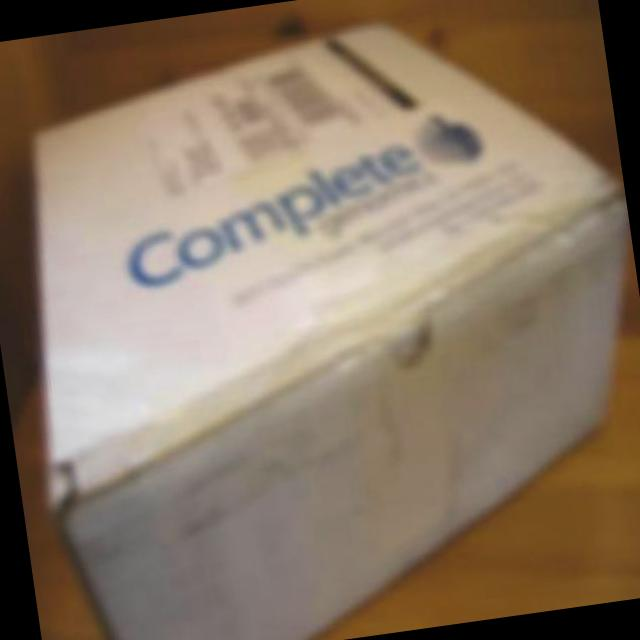box: (6, 17, 640, 640)
